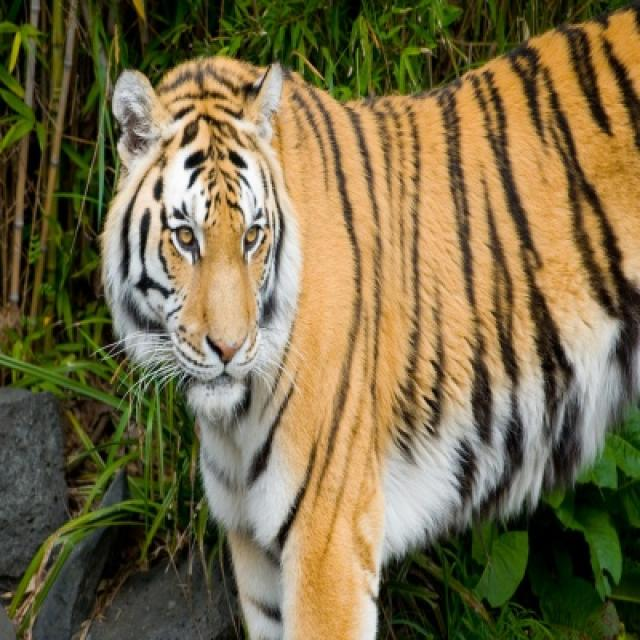Tiger: (106, 9, 638, 637)
